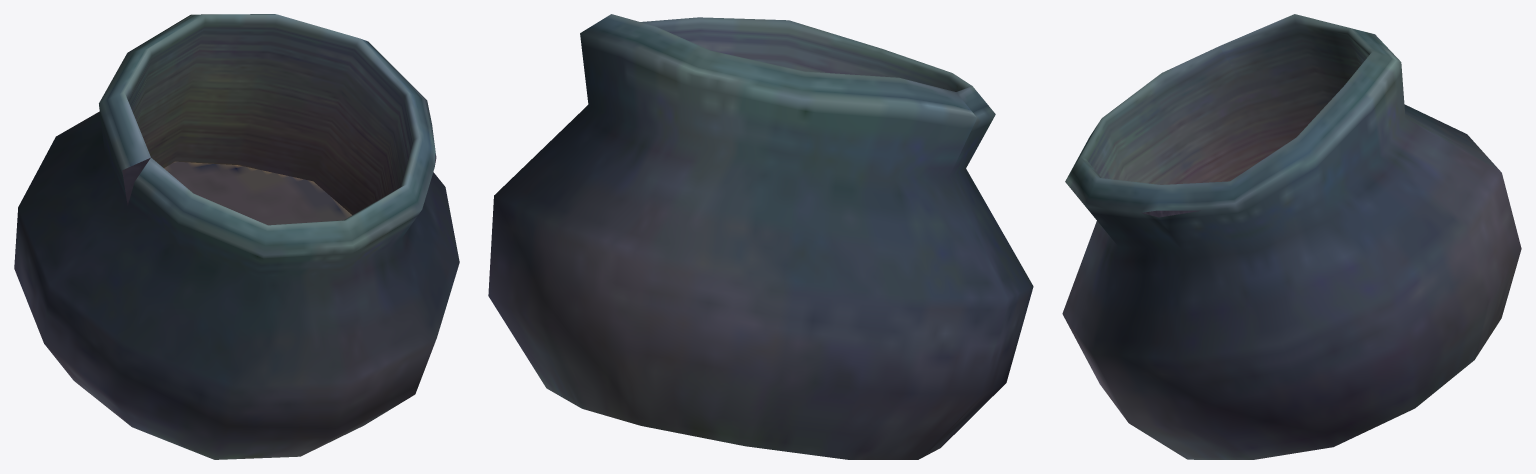
3 renders of one model, left to right at view 1: azimuth 30°, elevation 25°; view 2: azimuth 150°, elevation 25°; view 3: azimuth 270°, elevation 25°, orthographic. The views are drawn at different scales.
Parts seen in each view (by area): view 1: LV_Common_Object_A_Jar04_SM_CNH; view 2: LV_Common_Object_A_Jar04_SM_CNH; view 3: LV_Common_Object_A_Jar04_SM_CNH.
Boxes of the visible parts, bbox=[...] form: LV_Common_Object_A_Jar04_SM_CNH: bbox=[14, 14, 459, 459]; LV_Common_Object_A_Jar04_SM_CNH: bbox=[488, 14, 1033, 459]; LV_Common_Object_A_Jar04_SM_CNH: bbox=[1062, 14, 1521, 459].
Size of the model in its own units: 0.1367 by 0.1207 by 0.133.
Materials: 1 (1 with a texture image).
